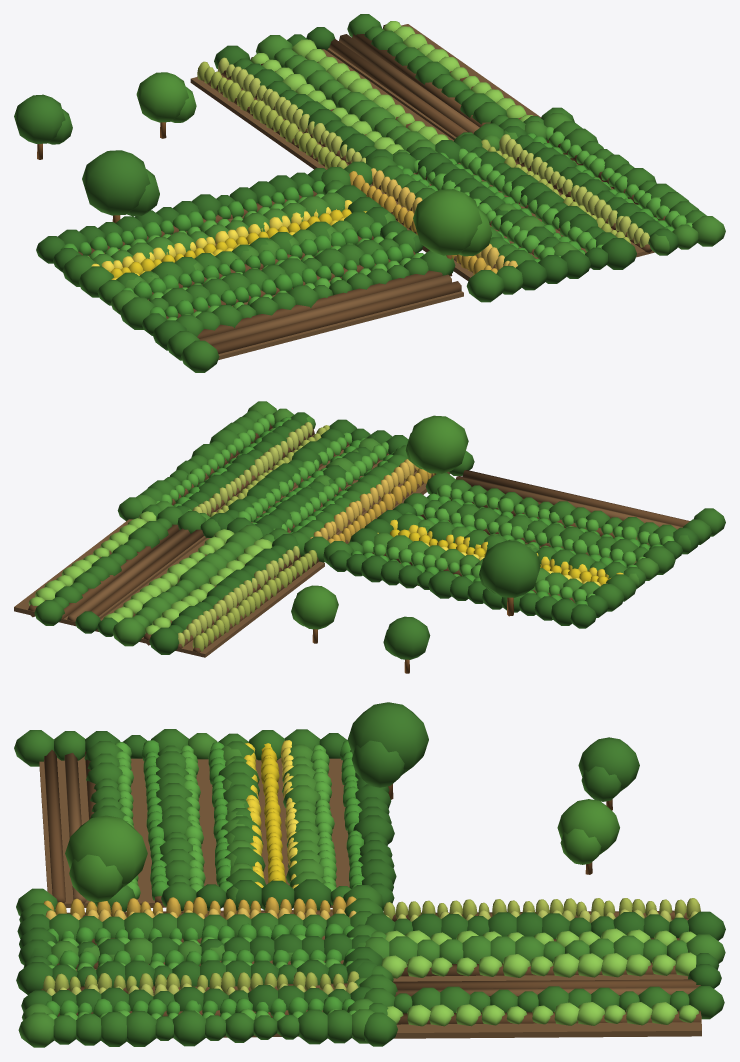
The model's file is improvement_farm_1_0.fbx.
3 views of the same model, one above another, from view 1: azimuth 30°, elevation 25°; view 2: azimuth 150°, elevation 25°; view 3: azimuth 270°, elevation 25° (orthographic). The views are drawn at different scales.
Visible parts, largest first — view 1: improvement_farm_1_0_hedge2.006_03, improvement_farm_1_0_hedge0.008_20, improvement_farm_1_0_crop#4c9a36.002_07, improvement_farm_1_0_crop#5aa83e.002_06, improvement_farm_1_0_plough0.001_01, improvement_farm_1_0_hedge1.005_08, improvement_farm_1_0_crop#8cc850_26, improvement_farm_1_0_leaf#4a8a30.002_28, improvement_farm_1_0_leaf#3f7a2c.002_29, improvement_farm_1_0_hedge0.006_04, improvement_farm_1_0_hedge2.007_09, improvement_farm_1_0_tilled.002_00 (+13 smaller); view 2: improvement_farm_1_0_hedge2.006_03, improvement_farm_1_0_crop#5aa83e.002_06, improvement_farm_1_0_hedge0.008_20, improvement_farm_1_0_hedge1.005_08, improvement_farm_1_0_crop#8cc850_26, improvement_farm_1_0_hedge0.006_04, improvement_farm_1_0_leaf#4a8a30.002_28, improvement_farm_1_0_hedge2.007_09, improvement_farm_1_0_leaf#3f7a2c.002_29, improvement_farm_1_0_plough0.001_01, improvement_farm_1_0_crop#b8c45a.002_22, improvement_farm_1_0_crop#4c9a36.002_07 (+13 smaller); view 3: improvement_farm_1_0_hedge0.008_20, improvement_farm_1_0_hedge2.006_03, improvement_farm_1_0_crop#4c9a36.002_07, improvement_farm_1_0_hedge0.006_04, improvement_farm_1_0_tilled.002_00, improvement_farm_1_0_crop#8cc850_26, improvement_farm_1_0_hedge2.007_09, improvement_farm_1_0_leaf#4a8a30.002_28, improvement_farm_1_0_leaf#3f7a2c.002_29, improvement_farm_1_0_crop#5aa83e.002_06, improvement_farm_1_0_hedge1.005_08, improvement_farm_1_0_crop#a8b84c.002_23 (+13 smaller).
Part boxes in pixels (left/top/right/bottom): improvement_farm_1_0_hedge2.006_03: left=116, top=14, right=525, bottom=340; improvement_farm_1_0_hedge0.008_20: left=214, top=27, right=678, bottom=269; improvement_farm_1_0_crop#4c9a36.002_07: left=60, top=133, right=674, bottom=318; improvement_farm_1_0_crop#5aa83e.002_06: left=87, top=127, right=692, bottom=320; improvement_farm_1_0_plough0.001_01: left=197, top=34, right=490, bottom=353; improvement_farm_1_0_hedge1.005_08: left=57, top=168, right=607, bottom=350; improvement_farm_1_0_crop#8cc850_26: left=251, top=21, right=533, bottom=154; improvement_farm_1_0_leaf#4a8a30.002_28: left=136, top=72, right=492, bottom=256; improvement_farm_1_0_leaf#3f7a2c.002_29: left=14, top=94, right=159, bottom=216; improvement_farm_1_0_hedge0.006_04: left=167, top=121, right=706, bottom=372; improvement_farm_1_0_hedge2.007_09: left=97, top=35, right=435, bottom=314; improvement_farm_1_0_tilled.002_00: left=89, top=24, right=654, bottom=360; improvement_farm_1_0_hedge2.006_03: left=34, top=472, right=691, bottom=625; improvement_farm_1_0_crop#5aa83e.002_06: left=156, top=413, right=674, bottom=602; improvement_farm_1_0_hedge0.008_20: left=75, top=412, right=381, bottom=654; improvement_farm_1_0_hedge1.005_08: left=328, top=428, right=699, bottom=625; improvement_farm_1_0_crop#8cc850_26: left=28, top=511, right=272, bottom=634; improvement_farm_1_0_hedge0.006_04: left=140, top=410, right=725, bottom=554; improvement_farm_1_0_leaf#4a8a30.002_28: left=291, top=415, right=468, bottom=629; improvement_farm_1_0_hedge2.007_09: left=112, top=519, right=659, bottom=646; improvement_farm_1_0_leaf#3f7a2c.002_29: left=383, top=540, right=540, bottom=659; improvement_farm_1_0_plough0.001_01: left=61, top=470, right=689, bottom=618; improvement_farm_1_0_crop#b8c45a.002_22: left=178, top=422, right=312, bottom=647; improvement_farm_1_0_crop#4c9a36.002_07: left=173, top=417, right=663, bottom=605; improvement_farm_1_0_hedge0.008_20: left=16, top=911, right=725, bottom=1012; improvement_farm_1_0_hedge2.006_03: left=84, top=729, right=724, bottom=1019; improvement_farm_1_0_crop#4c9a36.002_07: left=45, top=740, right=364, bottom=1016; improvement_farm_1_0_hedge0.006_04: left=14, top=730, right=376, bottom=1046; improvement_farm_1_0_tilled.002_00: left=39, top=756, right=701, bottom=1038; improvement_farm_1_0_crop#8cc850_26: left=381, top=928, right=698, bottom=1026; improvement_farm_1_0_hedge2.007_09: left=188, top=733, right=725, bottom=963; improvement_farm_1_0_leaf#4a8a30.002_28: left=65, top=799, right=619, bottom=902; improvement_farm_1_0_leaf#3f7a2c.002_29: left=347, top=702, right=639, bottom=801; improvement_farm_1_0_crop#5aa83e.002_06: left=47, top=742, right=356, bottom=1021; improvement_farm_1_0_hedge1.005_08: left=17, top=731, right=396, bottom=968; improvement_farm_1_0_crop#a8b84c.002_23: left=43, top=898, right=700, bottom=993.
Size of the model in its own units: 208 by 32.45 by 210.
